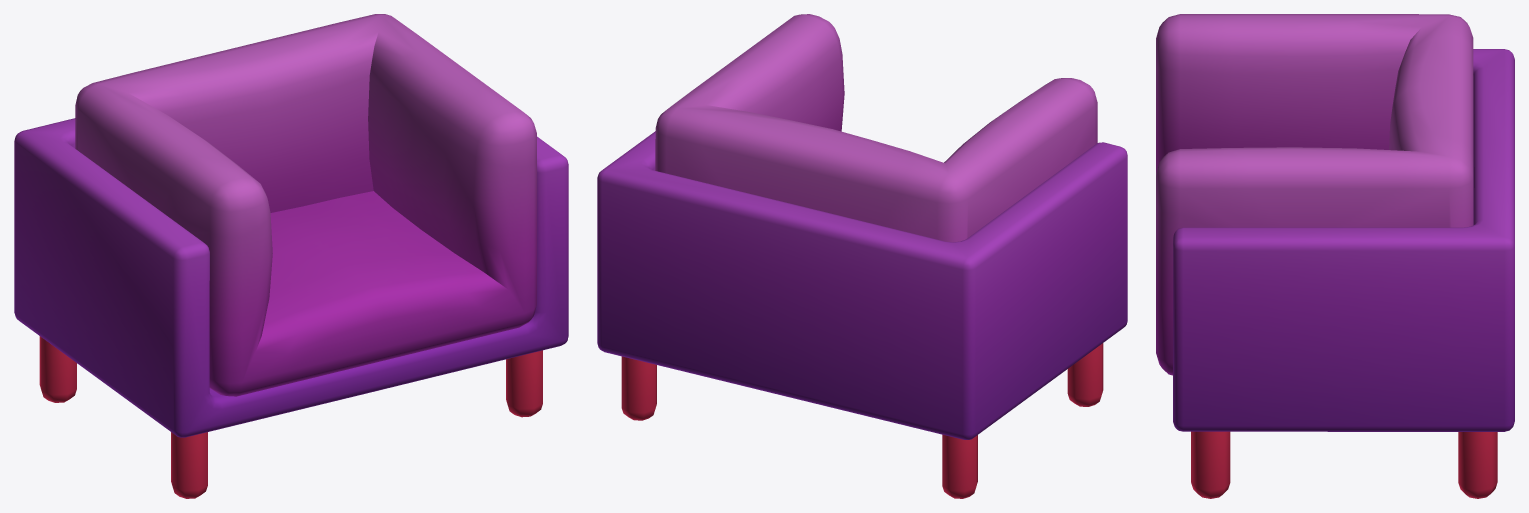
Rendered from Armchair_16.glb.
The picture shows the model from 3 angles, left to right: view 1: azimuth 30°, elevation 25°; view 2: azimuth 150°, elevation 25°; view 3: azimuth 270°, elevation 25°; orthographic projection. The views are drawn at different scales.
Visible parts, largest first — view 1: Armchair_16; view 2: Armchair_16; view 3: Armchair_16.
Boxes of the visible parts, bbox=[...] form: Armchair_16: bbox=[14, 14, 568, 498]; Armchair_16: bbox=[597, 14, 1127, 498]; Armchair_16: bbox=[1156, 14, 1514, 498].
Size of the model in its own units: 1.12 by 0.868 by 0.8656.
1 material, 1 textured.
